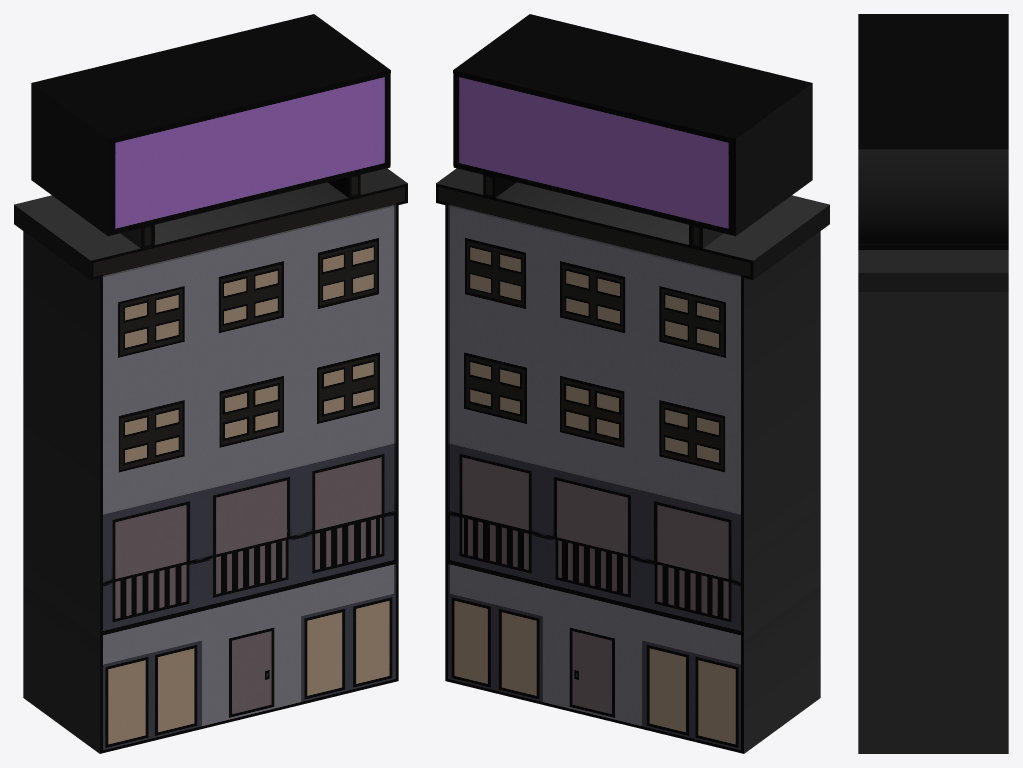
File: building4.fbx
3 views of the same model, side by side, from view 1: azimuth 30°, elevation 25°; view 2: azimuth 150°, elevation 25°; view 3: azimuth 270°, elevation 25° (orthographic).
Parts seen in each view (by area): view 1: Plane; view 2: Plane; view 3: Plane.
Part boxes in pixels (x1,y1,x2,y2): Plane: (14, 14, 407, 753); Plane: (436, 14, 829, 753); Plane: (858, 14, 1008, 753).
Bounding box in the file's own units: 205 × 379 × 85.85.
